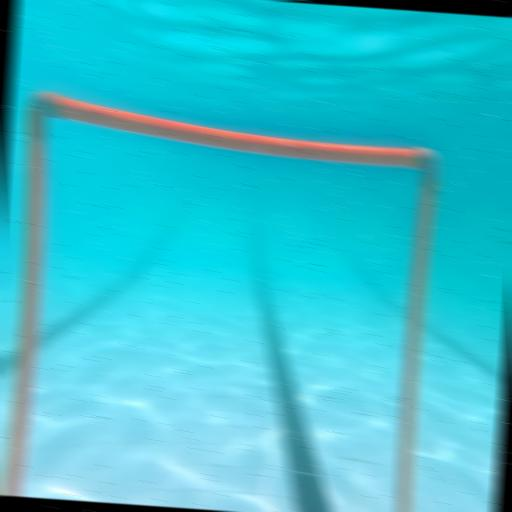gate: (0, 88, 439, 512)
